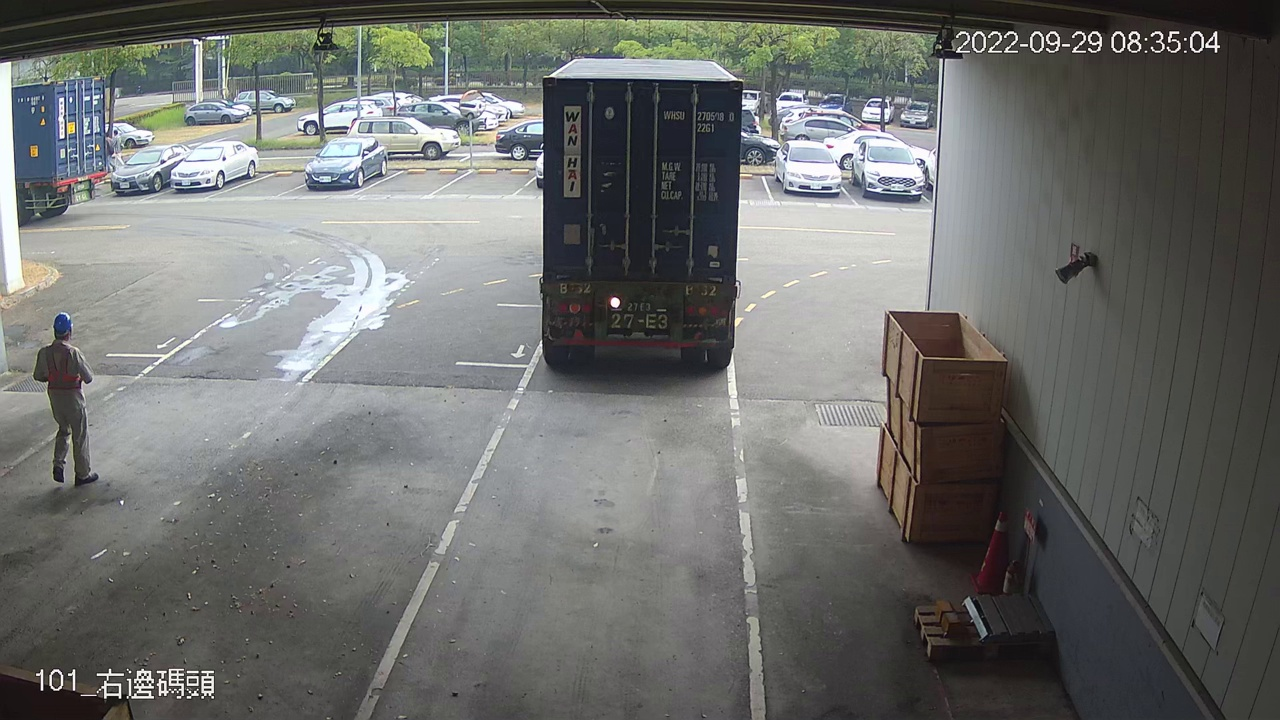container: (657, 104, 737, 136)
